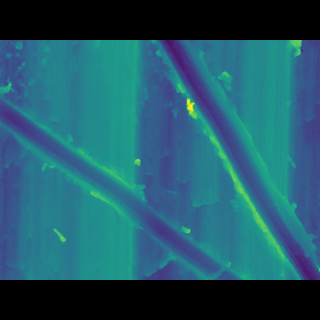Loch: (0, 111, 254, 250), (152, 69, 319, 251)
